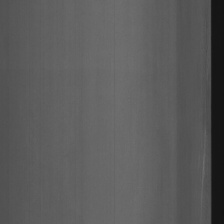silk_spot: (196, 18, 209, 214)
